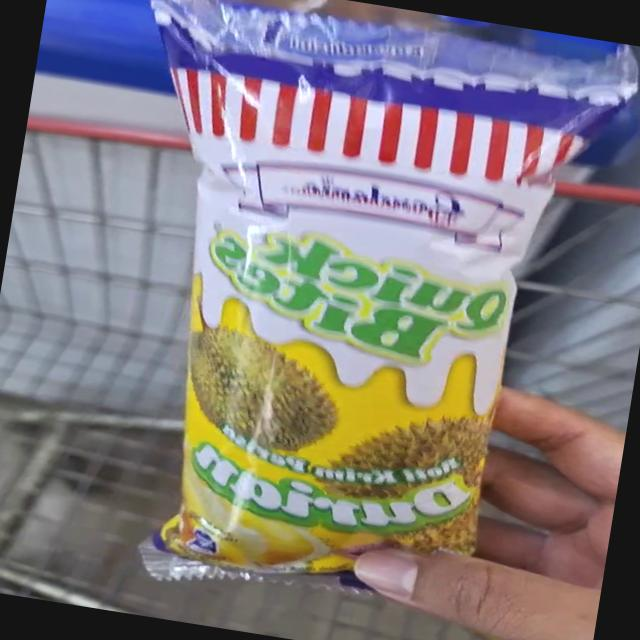Roti: (113, 0, 640, 640)
